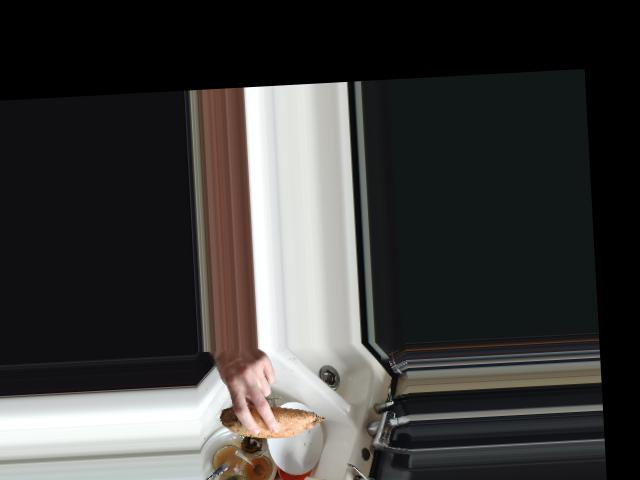sweet_potato: (215, 395, 330, 440)
